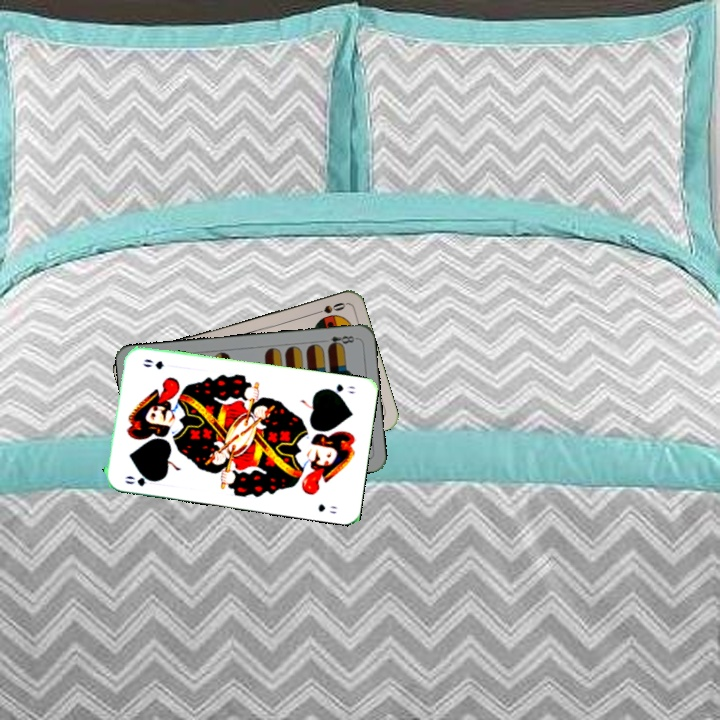E8: (324, 332, 359, 350)
GO: (121, 471, 158, 489), (321, 380, 358, 397)
SO: (308, 298, 348, 317)
